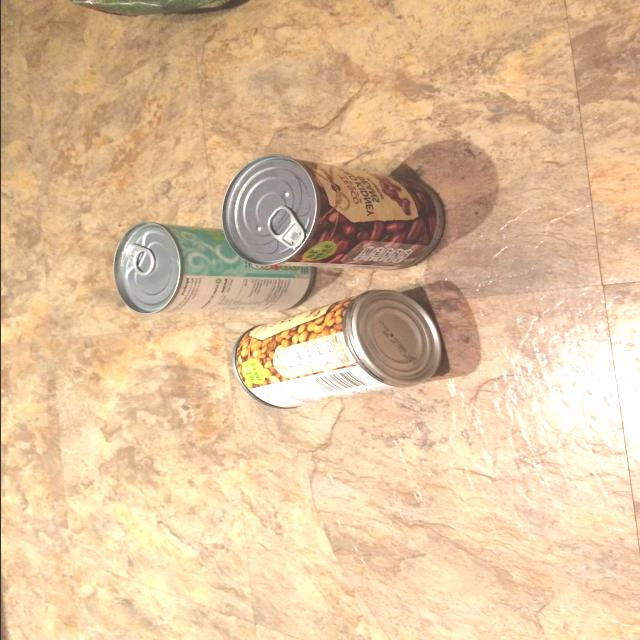Food Can: (221, 154, 443, 270), (232, 290, 440, 409), (113, 221, 314, 314)
Pop tab: (266, 206, 304, 248), (122, 244, 154, 275)
